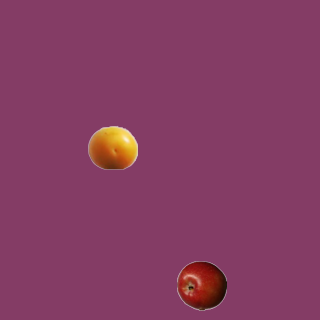Apple Braeburn: (176, 260, 226, 310)
Cherry Wax Yellow: (87, 122, 137, 172)
